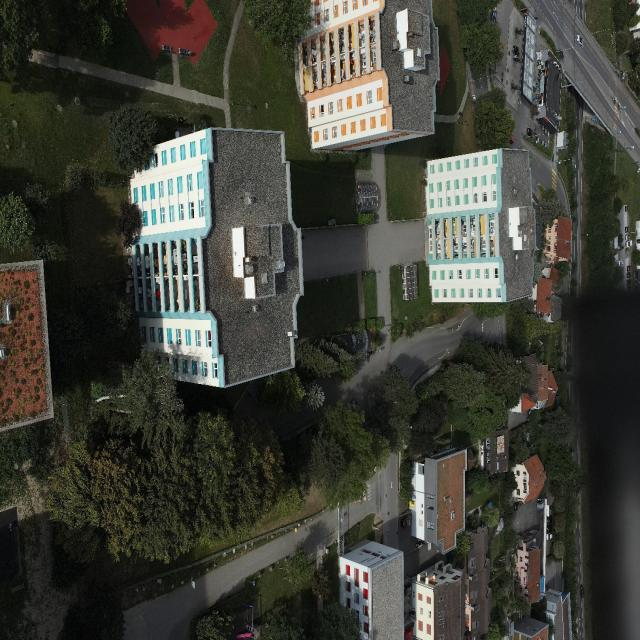passage_pieton: (613, 81, 618, 131), (551, 167, 558, 196)
